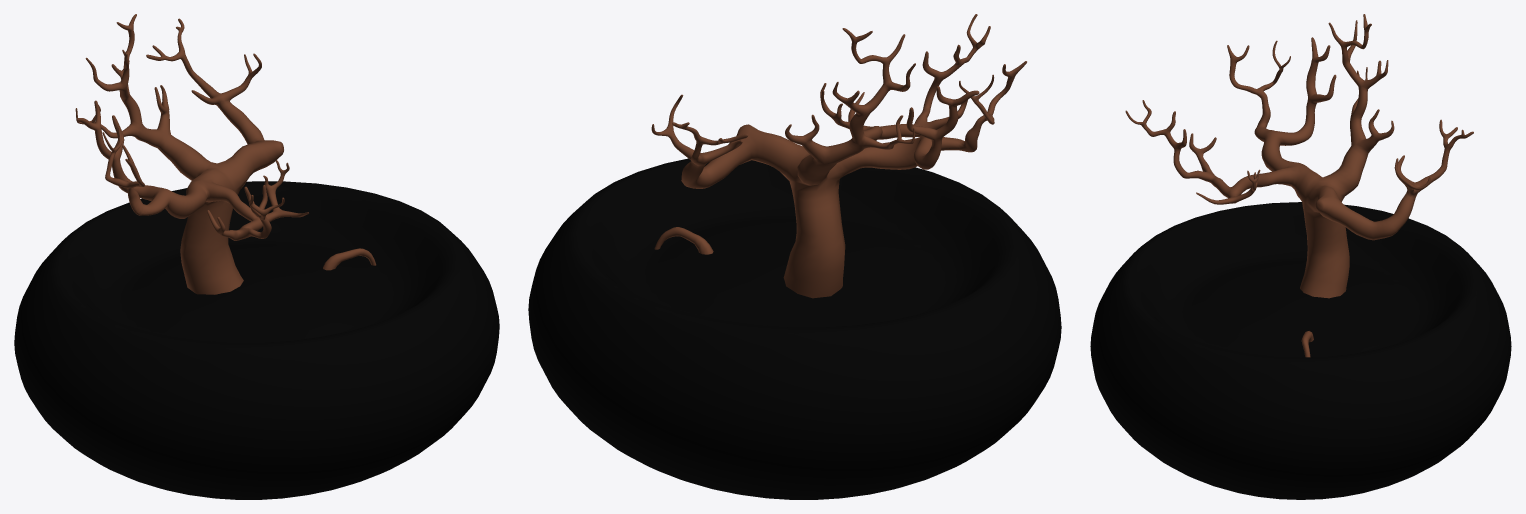
The model's file is Bonsai_sinojas.fbx.
3 renders of one model, left to right at view 1: azimuth 30°, elevation 25°; view 2: azimuth 150°, elevation 25°; view 3: azimuth 270°, elevation 25°, orthographic. The views are drawn at different scales.
Parts seen in each view (by area): view 1: pasted__maceta, pasted__bonsay; view 2: pasted__maceta, pasted__bonsay; view 3: pasted__maceta, pasted__bonsay.
Boxes of the visible parts, x1,y1,x2,y2 form: pasted__maceta: [14, 181, 499, 499]; pasted__bonsay: [75, 14, 376, 294]; pasted__maceta: [528, 158, 1061, 499]; pasted__bonsay: [651, 14, 1026, 298]; pasted__maceta: [1090, 202, 1511, 499]; pasted__bonsay: [1125, 14, 1473, 357].
Size of the model in its own units: 4.12 by 4.1 by 3.85.
